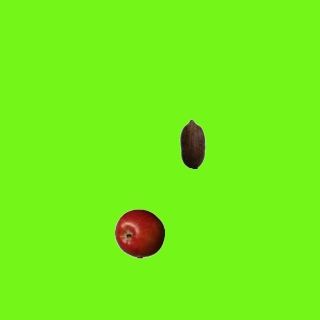Apple Braeburn: (114, 208, 164, 258)
Nut Pecan: (167, 118, 217, 168)
